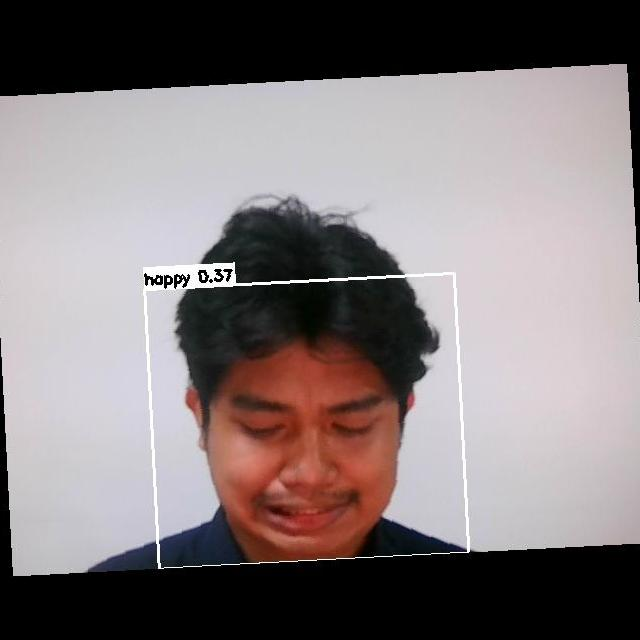Disgust: (208, 371, 405, 546)
